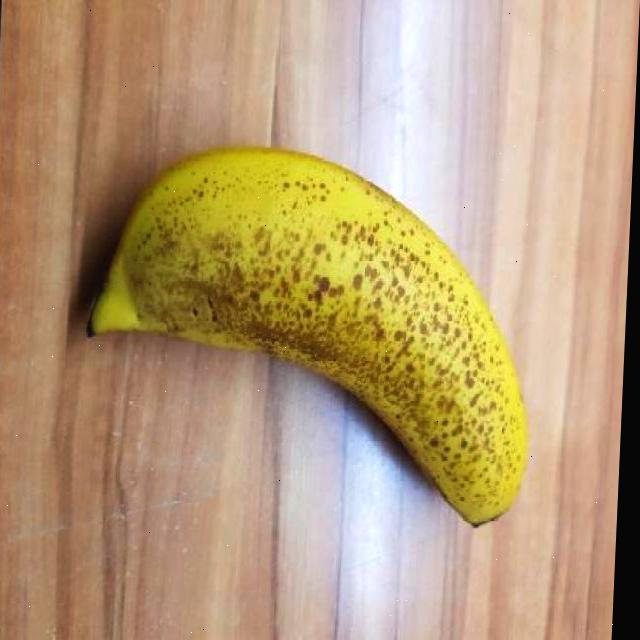banana: (67, 136, 543, 530)
